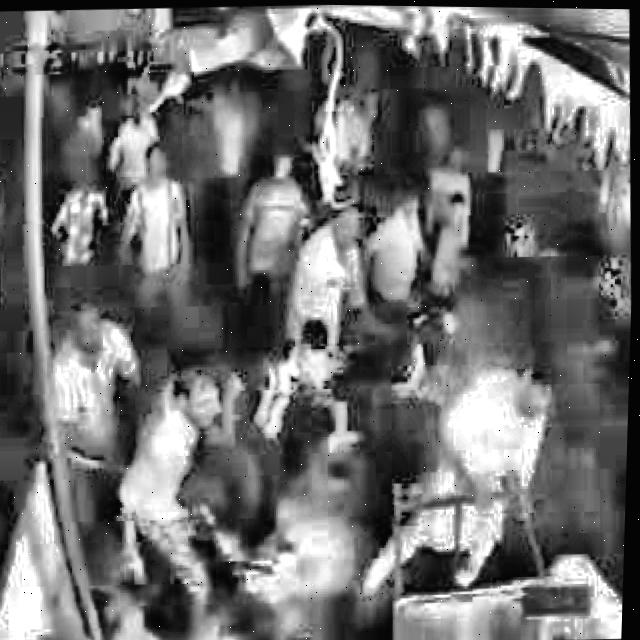robbery: (0, 58, 638, 640)
